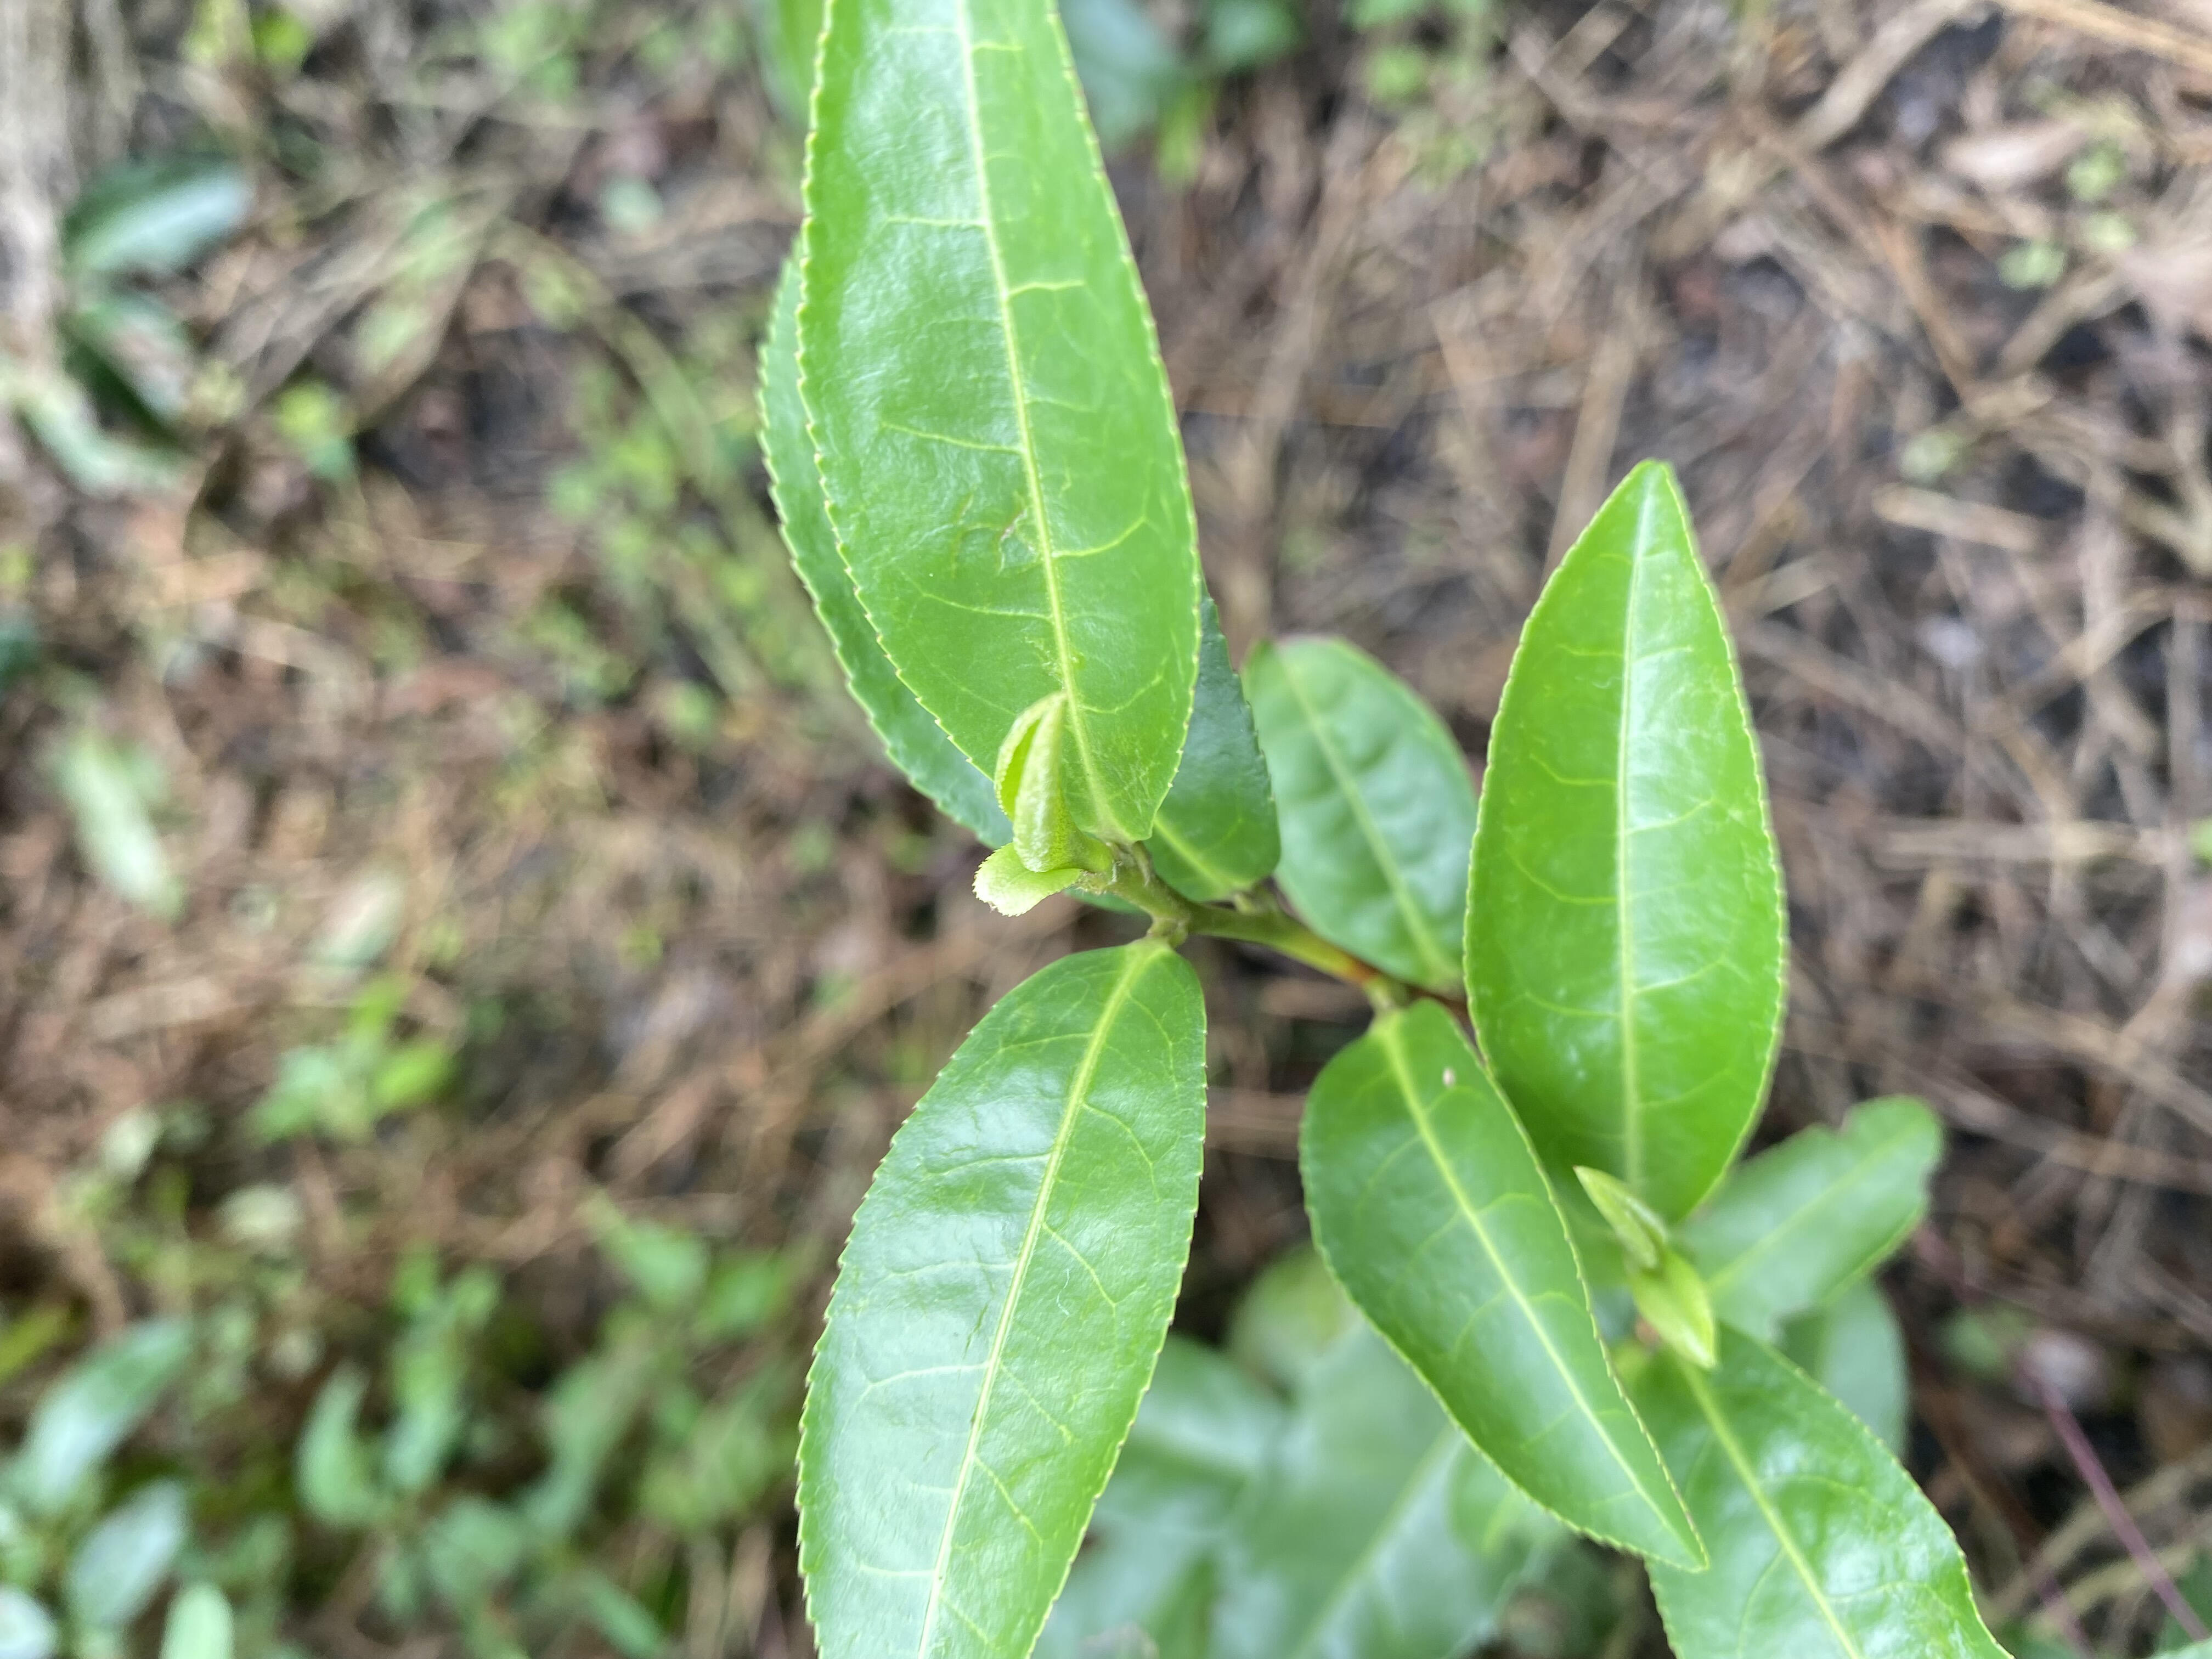healthy: (792, 2, 1204, 849), (794, 943, 1211, 1659), (1465, 455, 1784, 1236), (1294, 999, 1707, 1572)
